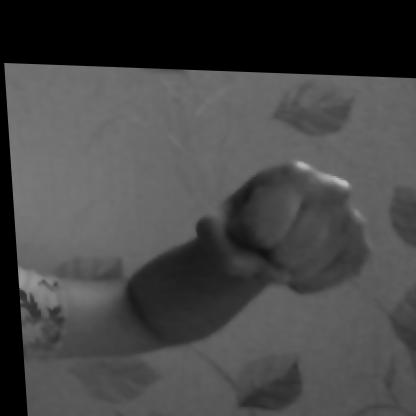fist: (63, 112, 387, 415)
